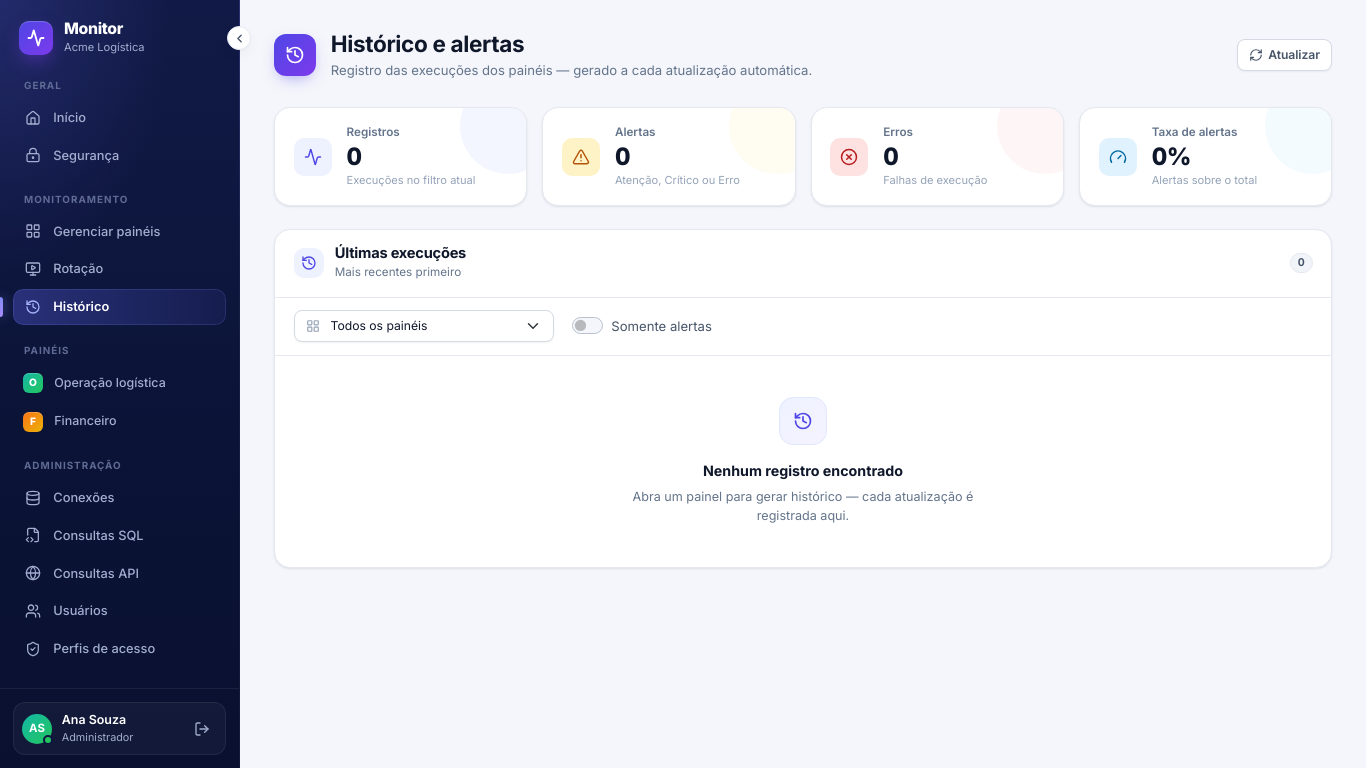
Test: Histórico › estado vazio com e sem filtros, e valores ausentes
expect the text "Abra um painel para gerar histórico" is shown: met, box [632,489,973,523]
expect the text "0%" is shown: met, box [1152,142,1191,171]
Click the switch labelled "Somente alertas": (588, 325) [572,317,603,334]
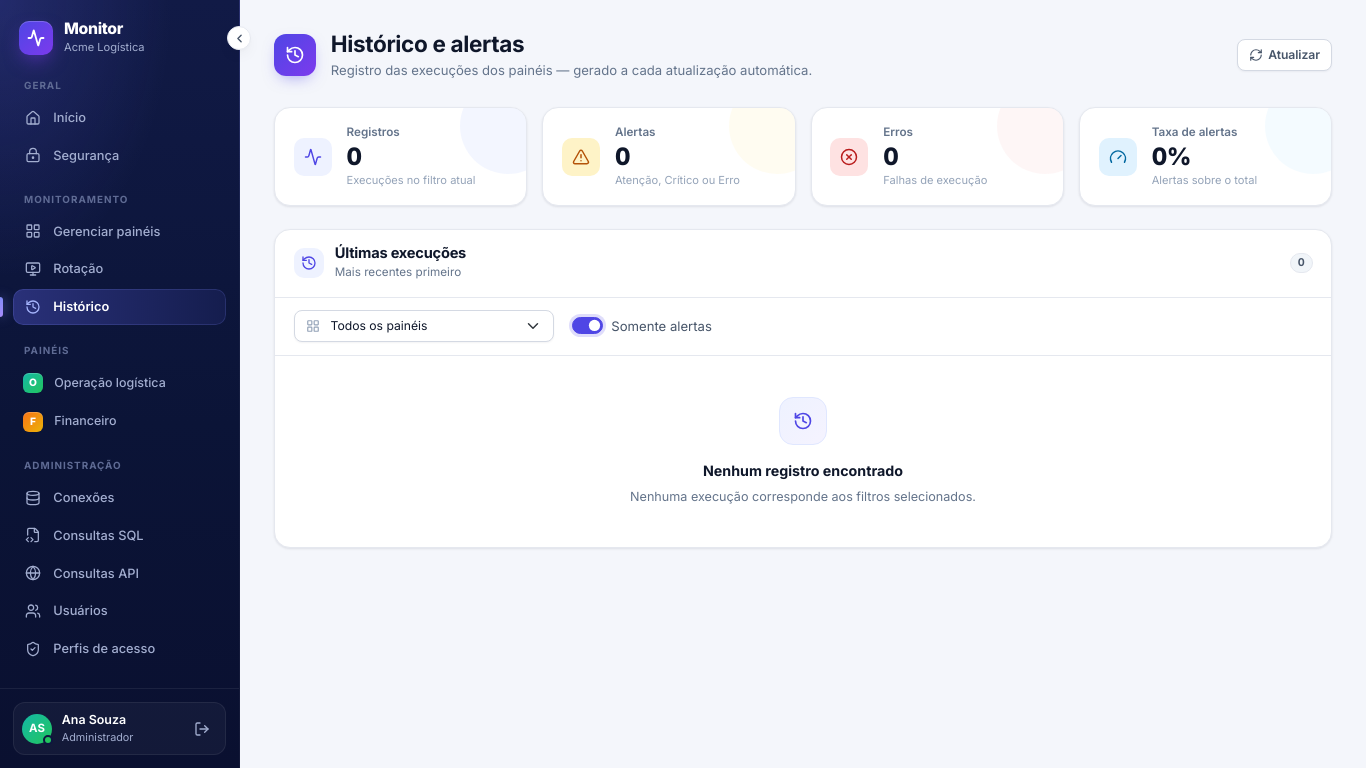
expect the text "Nenhuma execução corresponde aos filtros selecionados." is shown: met, box [630,487,976,506]
